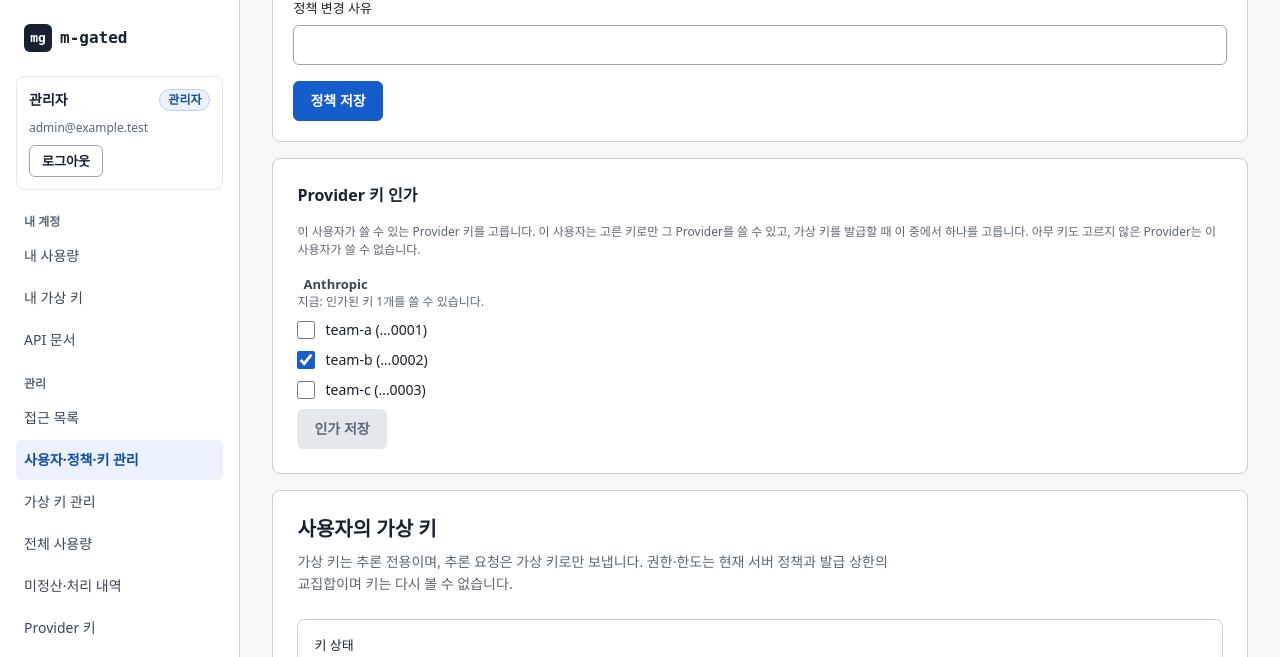
Test: removing_provider_key_access_asks_what_to_do_with_bound_keys_and_blocked_keys_are_marked
(page scrolled)
Expected: the text "지금: 인가된 키 1개를 쓸 수 있습니다." is shown, [298,293,484,310]
Expected: the button "인가 저장" is disabled, [298,409,387,449]
What coordinates should you click on to do the following:
click the checkbox labelled "team-b (…0002)"
I would click on:
 (306, 360)
Its box is [298,351,316,369].
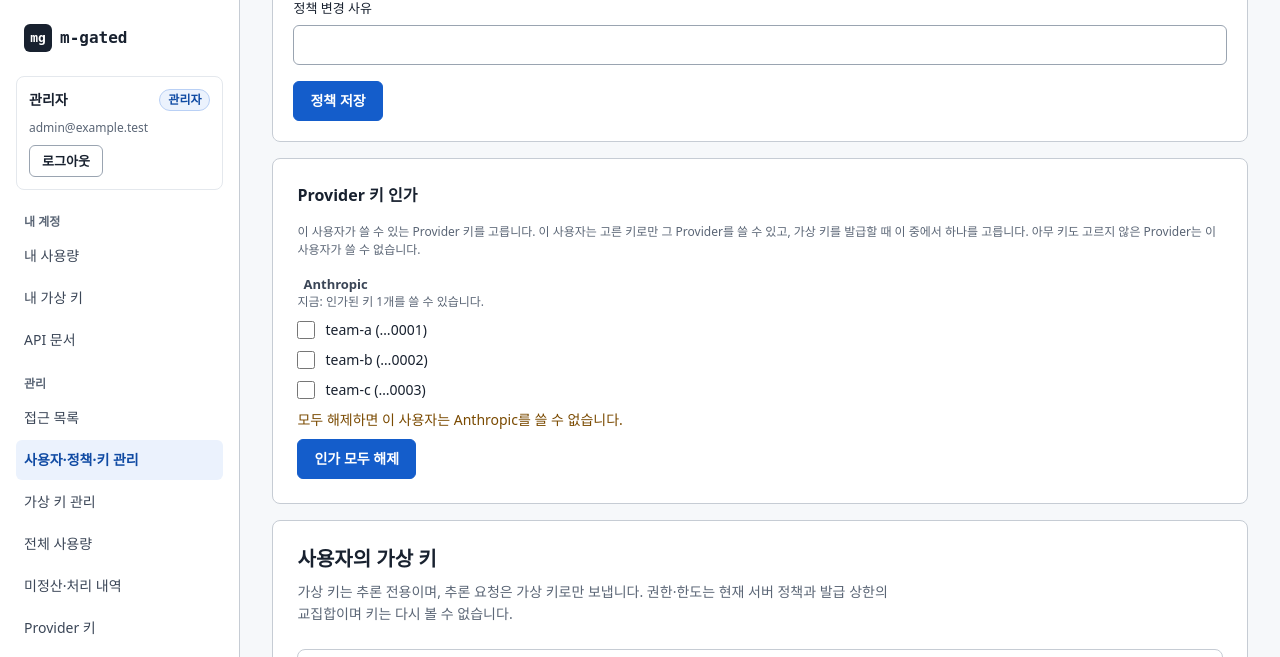
What coordinates should you click on to do the following:
click the checkbox labelled "team-a (…0001)"
I would click on:
 (306, 330)
Its box is [298,321,316,339].
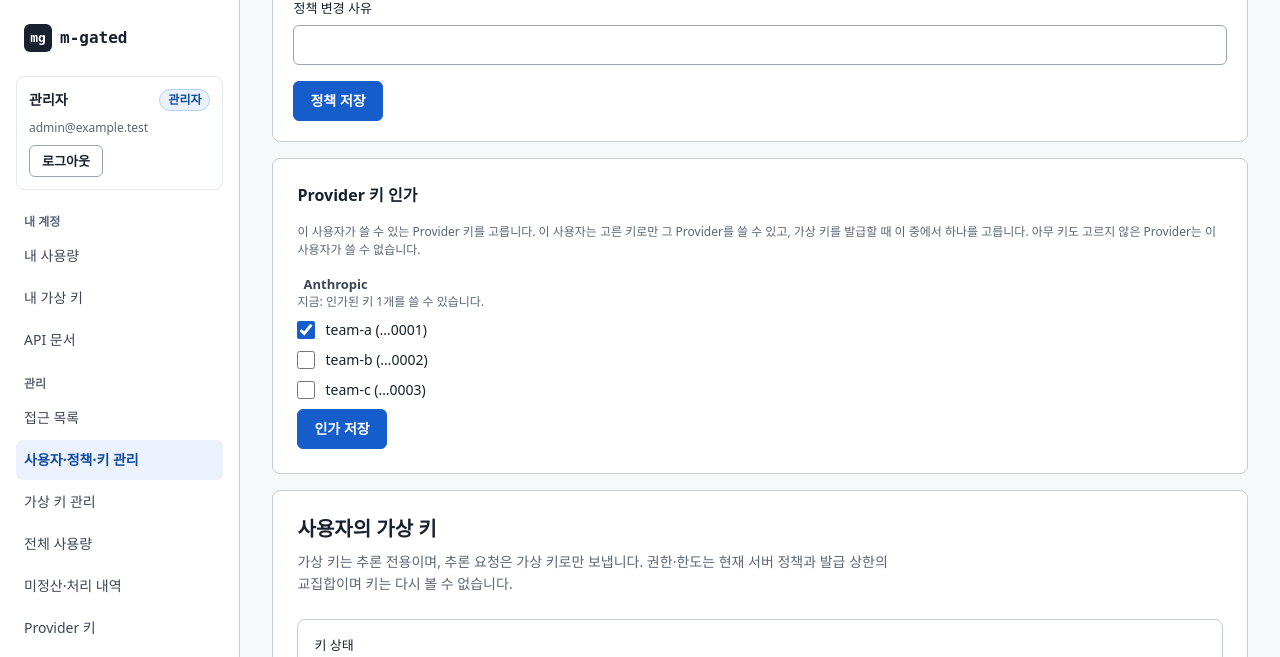
What coordinates should you click on to do the following:
click the button "인가 저장"
I would click on:
 (342, 429)
Its box is [298,409,387,449].
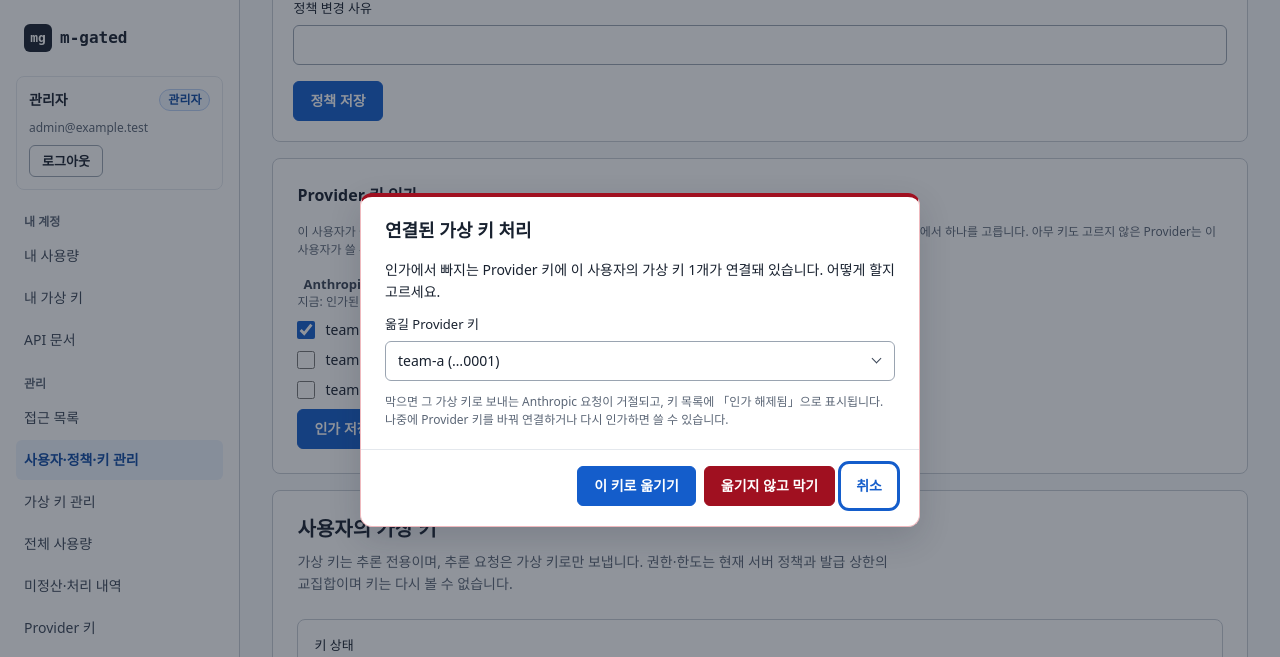
Now the dialog "연결된 가상 키 처리" shows "가상 키 1개가 연결돼 있습니다", box [385,260,895,301]
What coordinates should you click on to do the following:
click the button "옮기지 않고 막기"
I would click on:
 (770, 486)
Its box is [704,466,835,506].
(page scrolled)
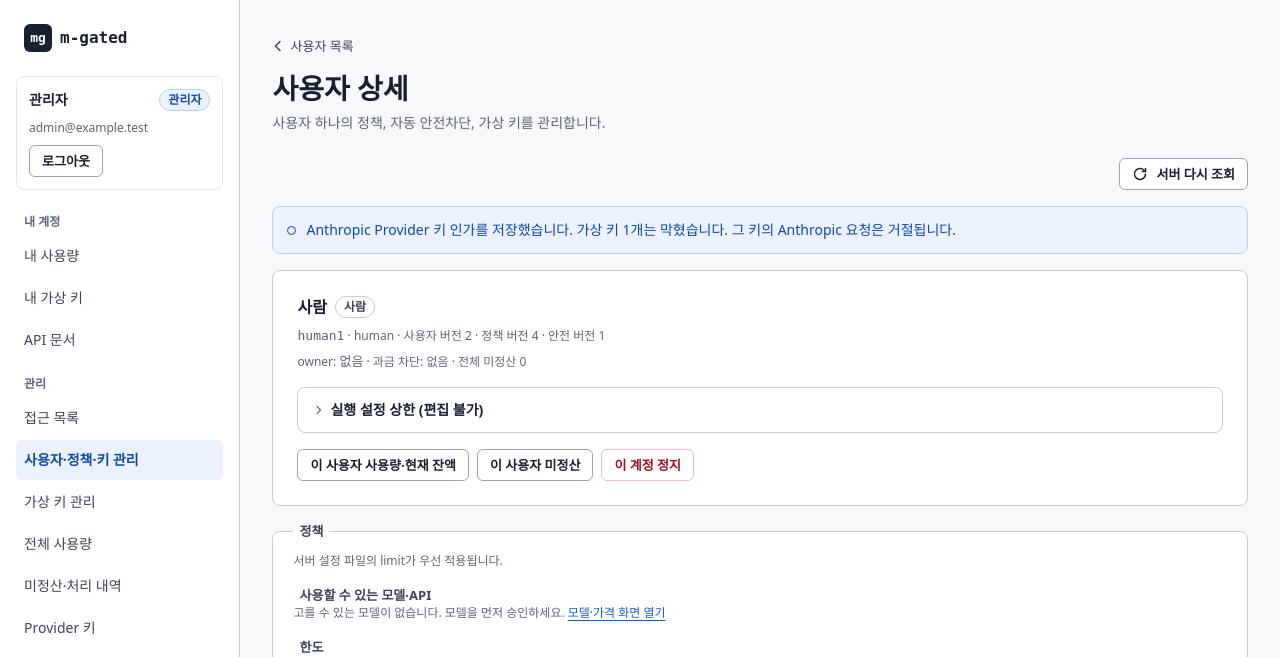
Now the text "Anthropic Provider 키 인가를 저장했습니다. 가상 키 1개는 막혔습니다. 그 키의 Anthropic 요청은 거절됩니다." is shown, box [272,206,1248,254]
Now the dialog is gone
